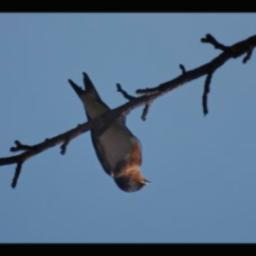Swallow: (68, 72, 151, 194)
